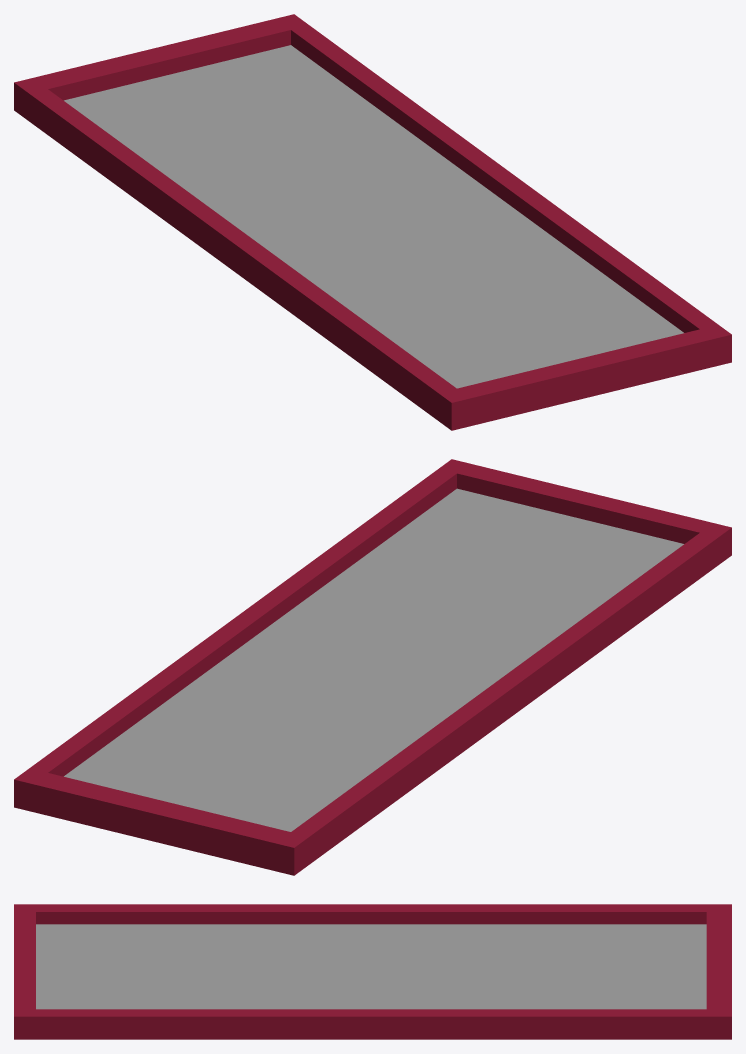
File: roof9x3.fbx
3 views of the same model, one above another, from view 1: azimuth 30°, elevation 25°; view 2: azimuth 150°, elevation 25°; view 3: azimuth 270°, elevation 25° (orthographic). The views are drawn at different scales.
Visible parts, largest first — view 1: roof; view 2: roof; view 3: roof.
Part boxes in pixels (<box>): roof: <box>14,14,731,430</box>; roof: <box>14,459,731,875</box>; roof: <box>14,904,731,1039</box>.
Bounding box in the file's own units: 6.8 × 0.6468 × 18.4.
